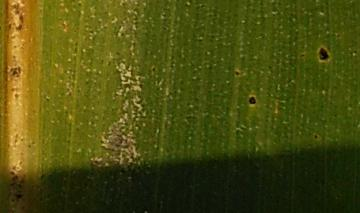tarspot: (316, 44, 331, 65), (246, 91, 258, 109)
